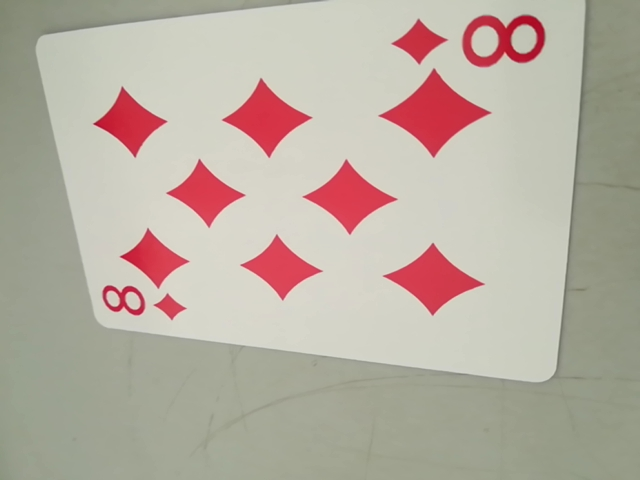fk 8: (395, 3, 549, 76), (97, 279, 185, 328)
